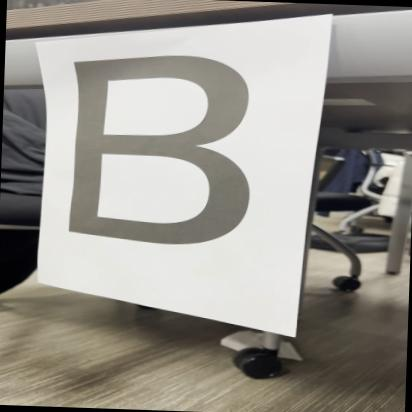seat: (54, 47, 304, 264)
